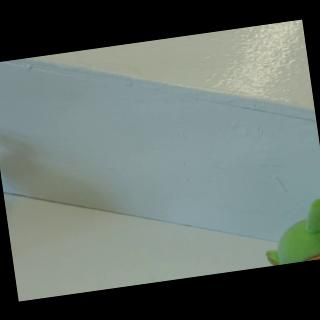teletubby: (266, 199, 320, 265)
